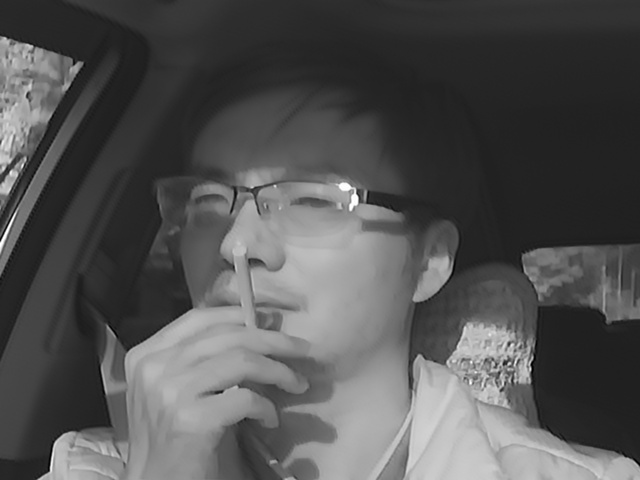hand: (127, 297, 315, 454)
